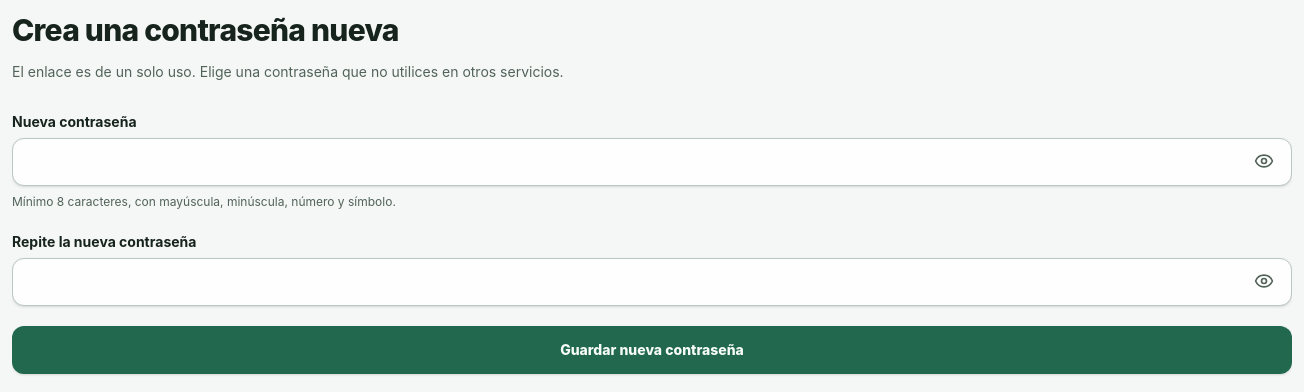
Test: ResetPasswordPage › envía token y contraseña sin enviar la confirmación
Type "Nueva123!" into the password field labelled "Nueva contraseña".
click(652, 162); type("Nueva123!")  # box [12, 138, 1292, 186]
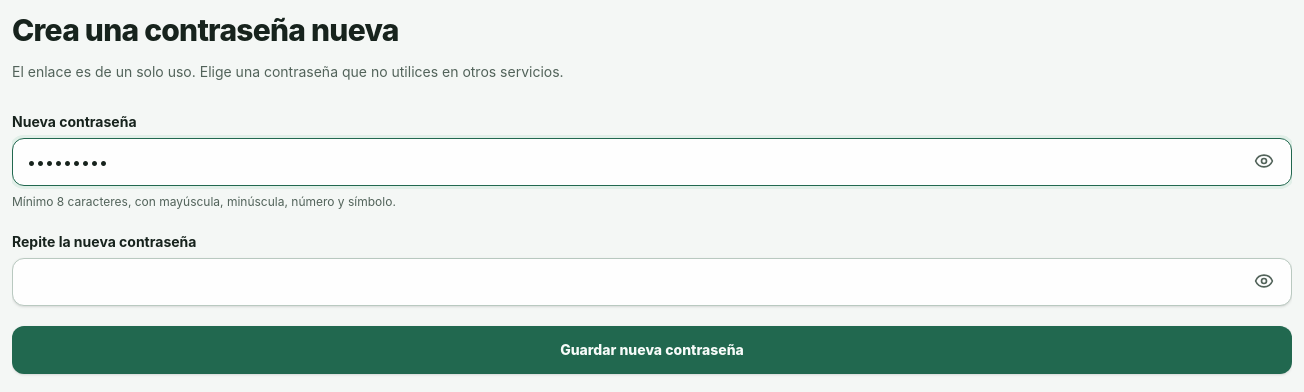
Type "Nueva123!" into the password field labelled "Repite la nueva contraseña".
click(652, 282); type("Nueva123!")  # box [12, 258, 1292, 306]
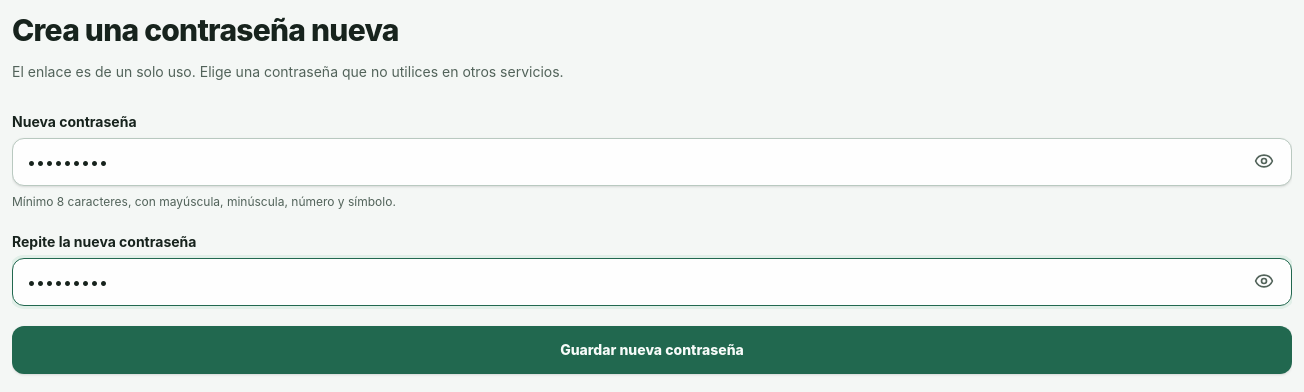
Click the button "Guardar nueva contraseña".
click(652, 350)  # box [12, 326, 1292, 374]
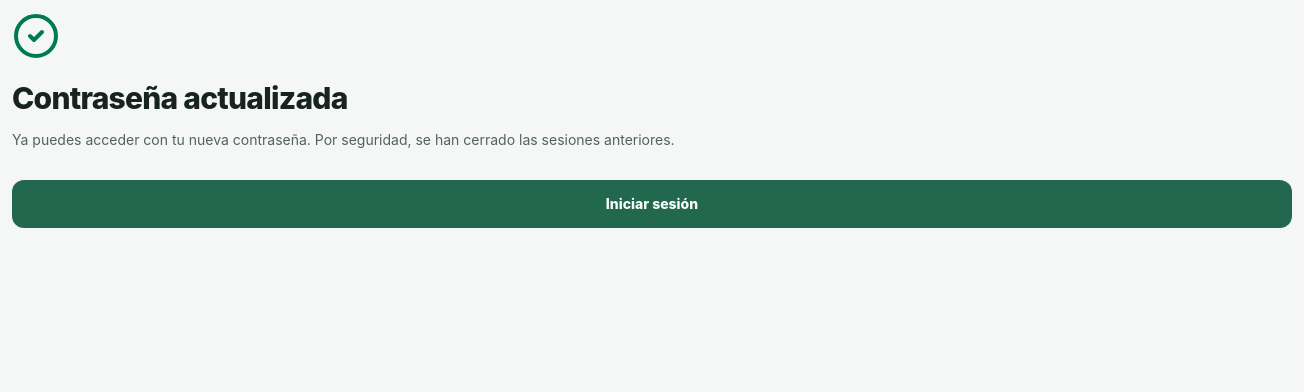
Result: the heading "Contraseña actualizada" is shown at [12, 80, 348, 116]
